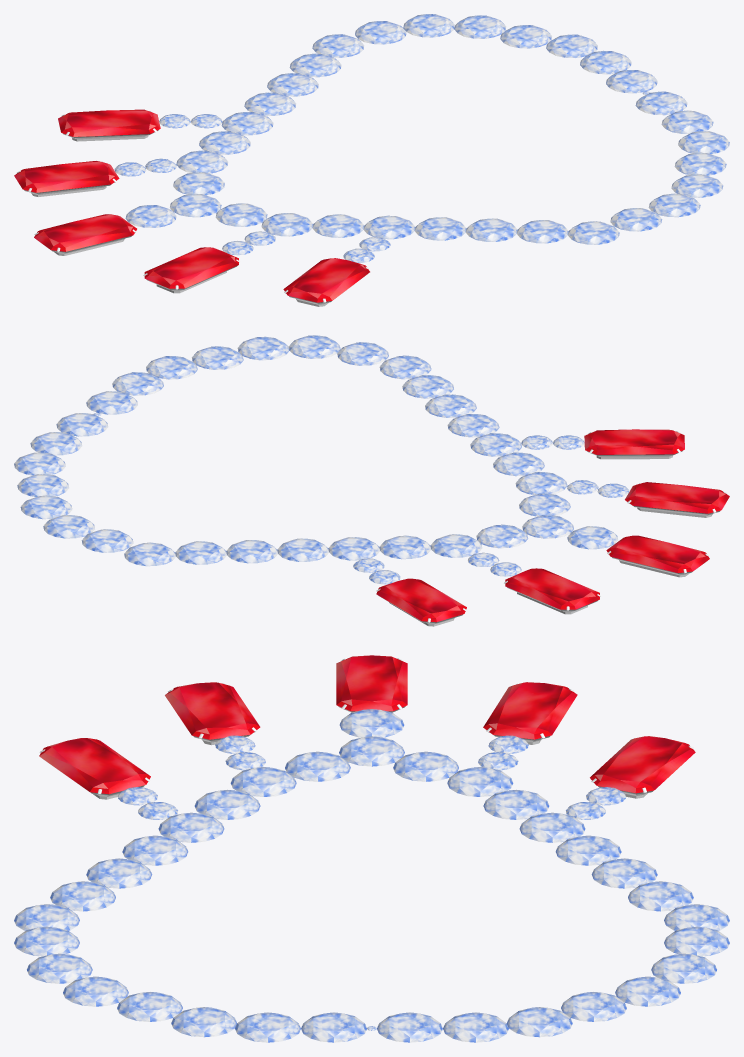
The model's file is Diamond Ruby Necklace.dae.
3 views of the same model, one above another, from view 1: azimuth 30°, elevation 25°; view 2: azimuth 150°, elevation 25°; view 3: azimuth 270°, elevation 25° (orthographic). The views are drawn at different scales.
Visible parts, largest first — view 1: group_21, group_20, group_12, group_23, group_22, group_5, group_2, group_29, group_30, group_27, group_41, group_28 (+25 smaller); view 2: group_23, group_22, group_12, group_21, group_20, Ruby_Diamond_Necklace, group_0, group_7, group_38, group_40, group_27, group_34 (+25 smaller); view 3: group_20, group_22, group_23, group_21, group_12, group_32, group_36, group_42, group_43, group_29, group_34, group_31 (+25 smaller).
Boxes of the visible parts, left/top/right/bottom form: group_21: left=58, top=109, right=160, bottom=136; group_20: left=14, top=161, right=119, bottom=192; group_12: left=34, top=214, right=136, bottom=251; group_23: left=283, top=258, right=369, bottom=302; group_22: left=144, top=247, right=238, bottom=288; group_5: left=415, top=217, right=466, bottom=240; group_2: left=261, top=213, right=313, bottom=236; group_29: left=454, top=15, right=506, bottom=38; group_30: left=500, top=25, right=551, bottom=48; group_27: left=355, top=21, right=406, bottom=44; group_41: left=568, top=221, right=619, bottom=244; group_28: left=403, top=14, right=455, bottom=37; group_23: left=584, top=429, right=684, bottom=454; group_22: left=625, top=482, right=729, bottom=513; group_12: left=606, top=535, right=709, bottom=573; group_21: left=376, top=578, right=466, bottom=622; group_20: left=505, top=568, right=599, bottom=609; Ruby_Diamond_Necklace: left=522, top=515, right=573, bottom=538; group_0: left=476, top=524, right=528, bottom=548; group_7: left=379, top=535, right=431, bottom=559; group_38: left=192, top=346, right=243, bottom=369; group_40: left=288, top=335, right=340, bottom=358; group_27: left=81, top=529, right=133, bottom=552; group_34: left=237, top=336, right=289, bottom=360; group_20: left=483, top=682, right=577, bottom=739; group_22: left=165, top=682, right=260, bottom=739; group_23: left=39, top=738, right=150, bottom=794; group_21: left=590, top=736, right=695, bottom=793; group_12: left=336, top=655, right=407, bottom=711; group_32: left=443, top=1012, right=508, bottom=1042; group_36: left=235, top=1012, right=300, bottom=1042; group_42: left=377, top=1012, right=442, bottom=1042; group_43: left=301, top=1012, right=366, bottom=1042; group_29: left=615, top=976, right=680, bottom=1006; group_34: left=63, top=976, right=128, bottom=1006; group_31: left=507, top=1007, right=572, bottom=1037.
Bounding box in the file's own units: 67.85 × 52.76 × 1.95.
Materials: 4 (3 with a texture image).
